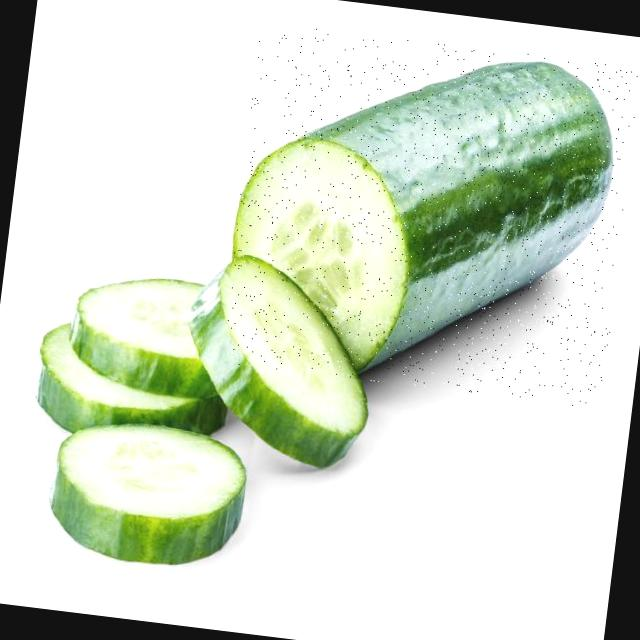Cucumber: (192, 21, 620, 406)
